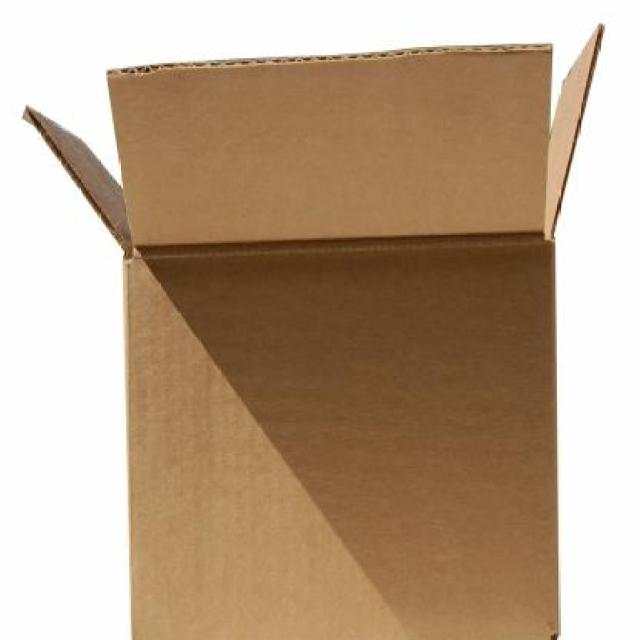box: (16, 13, 616, 640)
